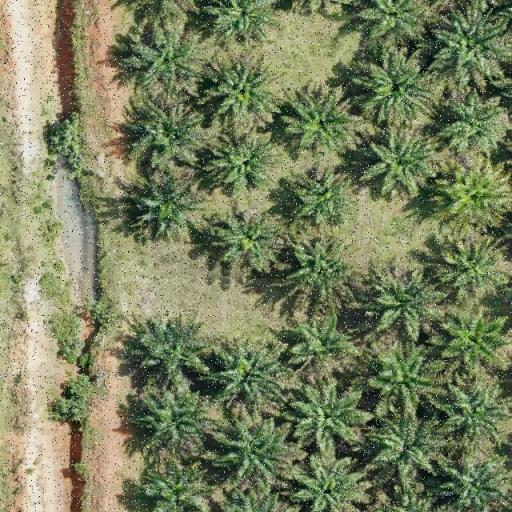Ganoderma: (448, 174, 501, 224)
